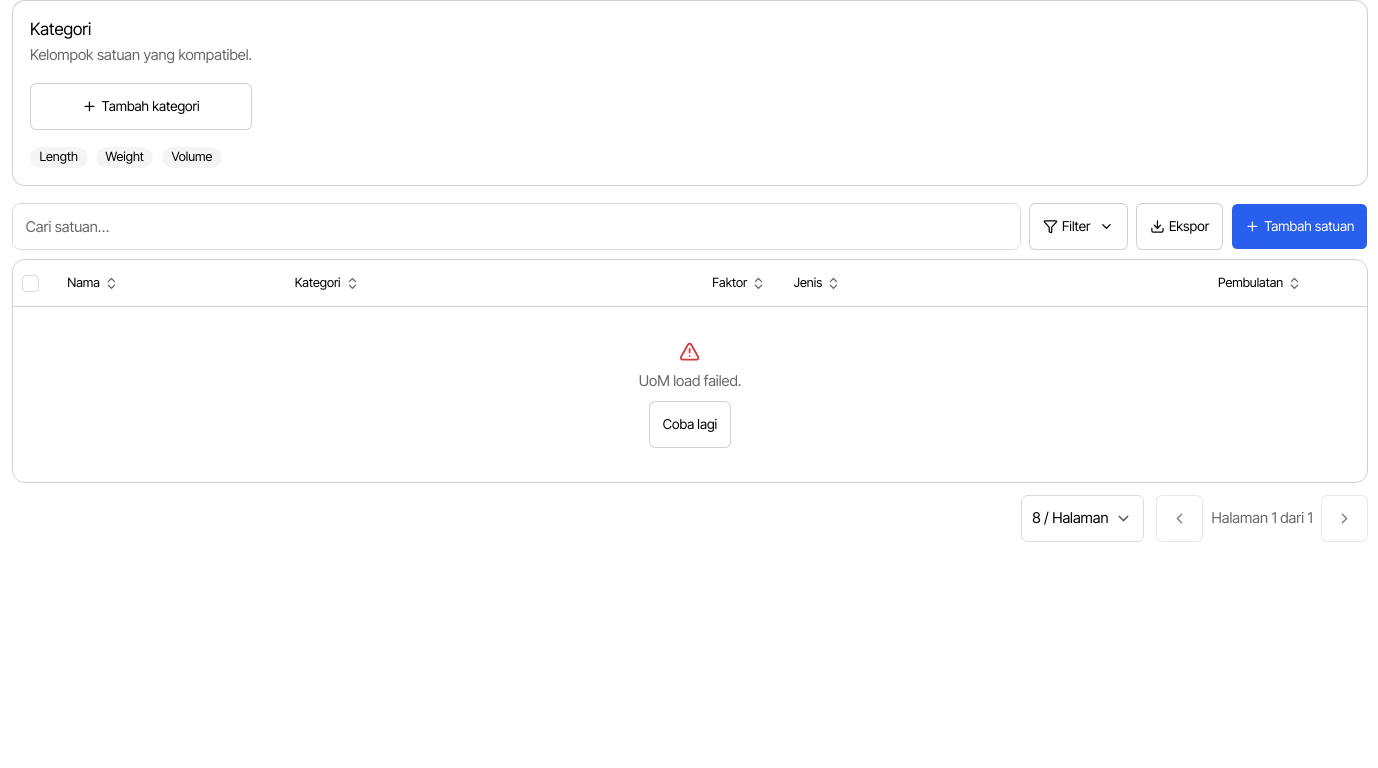
Test: UnitsSection remainder › shows the error state with retry when loading fails
Expected: the text "UoM load failed." is shown, [639,371,741,392]
What coordinates should you click on to do the following:
click the button "Coba lagi"
I would click on:
 (690, 424)
Its box is [649,401,731,448].
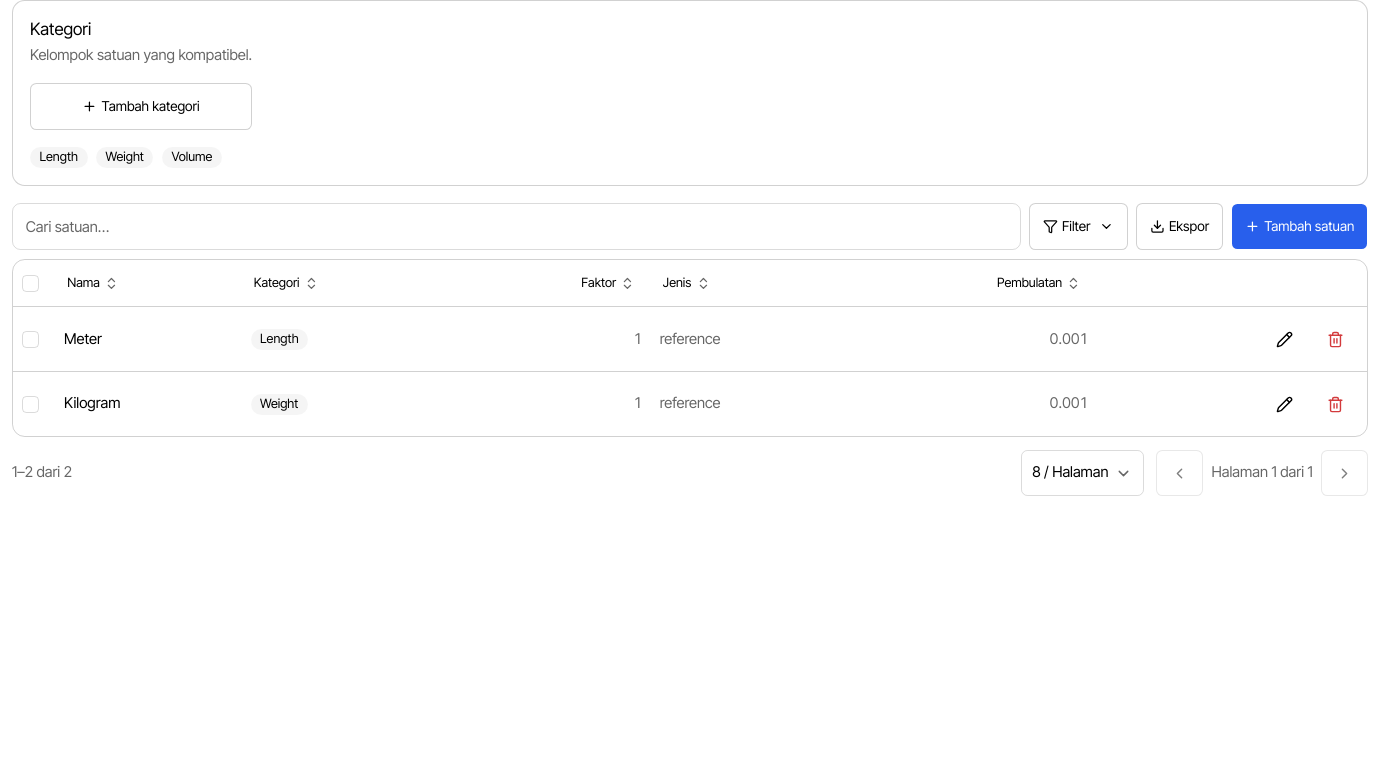
Now the text "Meter" is shown, box [64,330,102,348]
